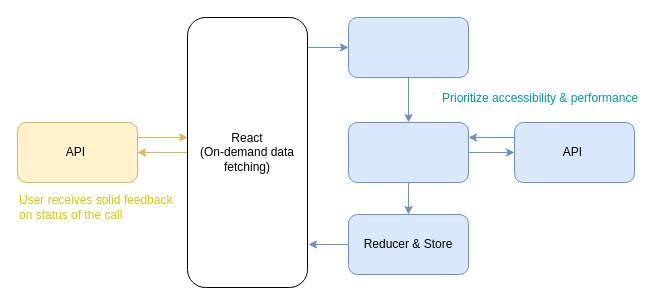
Image size: 664x305. Some labels were removed from this diagram. Here are the shapes that lost their labels. From the top down, the centre of each, then its label:
At (408,47): "Action".
At (408,152): "React Thunk".
